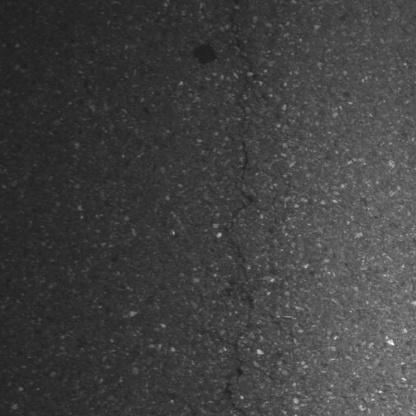Cracks: (224, 293, 268, 416), (224, 0, 265, 108)
